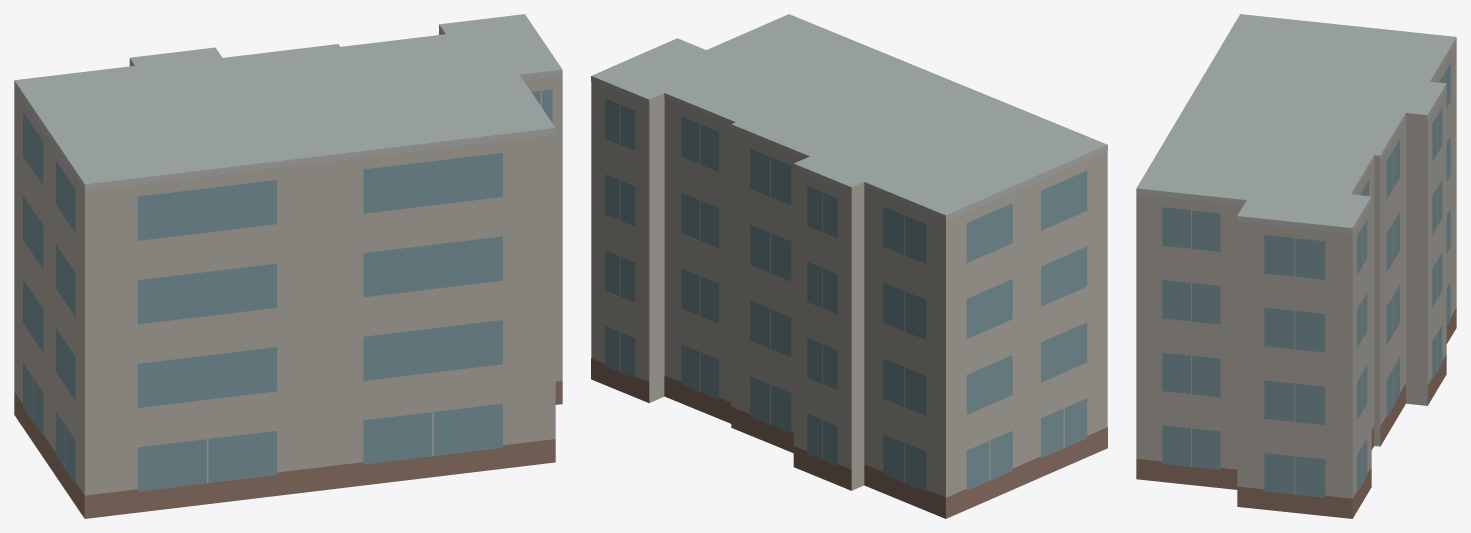
File: survey-upis-32806838.glb
3 renders of one model, left to right at view 1: azimuth 30°, elevation 25°; view 2: azimuth 150°, elevation 25°; view 3: azimuth 270°, elevation 25°, orthographic. The views are drawn at different scales.
Visible parts, largest first — view 1: survey-upis-32806838.tmp; view 2: survey-upis-32806838.tmp; view 3: survey-upis-32806838.tmp.
Boxes of the visible parts, bbox=[...] form: survey-upis-32806838.tmp: bbox=[14, 14, 562, 518]; survey-upis-32806838.tmp: bbox=[591, 14, 1107, 518]; survey-upis-32806838.tmp: bbox=[1136, 14, 1456, 518].
Bounding box in the file's own units: 20.06 × 12.7 × 12.69.
